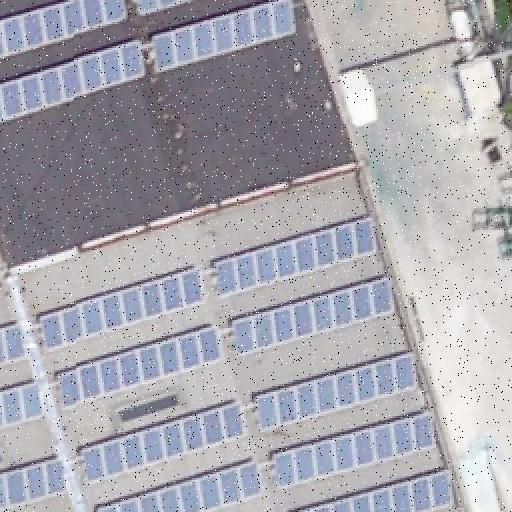solar-panel: (35, 264, 205, 352), (57, 322, 223, 410), (80, 401, 244, 487), (254, 351, 422, 433), (213, 215, 379, 297), (232, 275, 396, 357), (273, 410, 439, 490), (1, 39, 151, 121), (149, 0, 299, 72), (98, 457, 262, 511), (0, 0, 128, 60), (298, 465, 454, 511), (0, 456, 64, 512), (0, 380, 44, 428), (0, 320, 24, 364), (137, 0, 191, 16)
